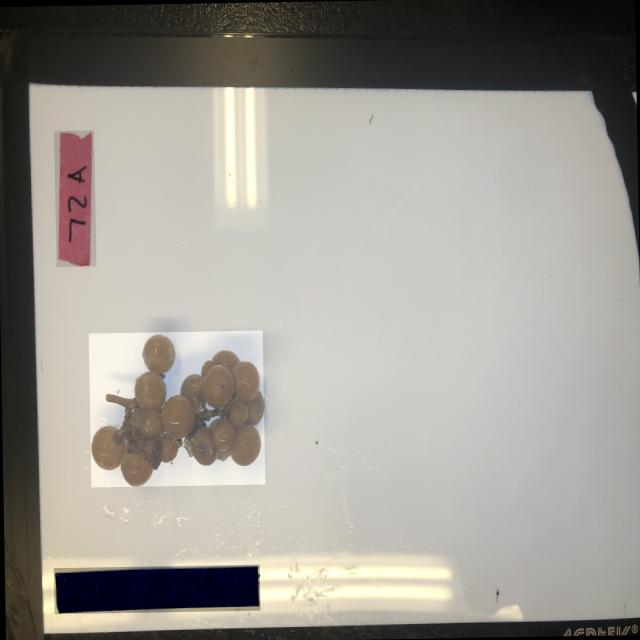grape_cluster: (88, 329, 265, 486)
index: (54, 128, 96, 266)
measure_label: (53, 562, 260, 614)
